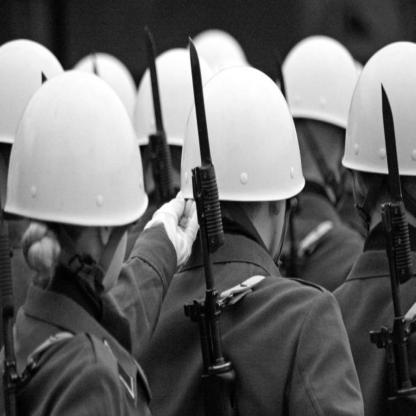Helmet: (6, 57, 148, 252), (177, 64, 308, 261), (266, 28, 358, 182), (342, 37, 416, 183), (126, 46, 212, 153), (0, 42, 58, 142), (71, 50, 138, 132), (190, 27, 245, 78)
